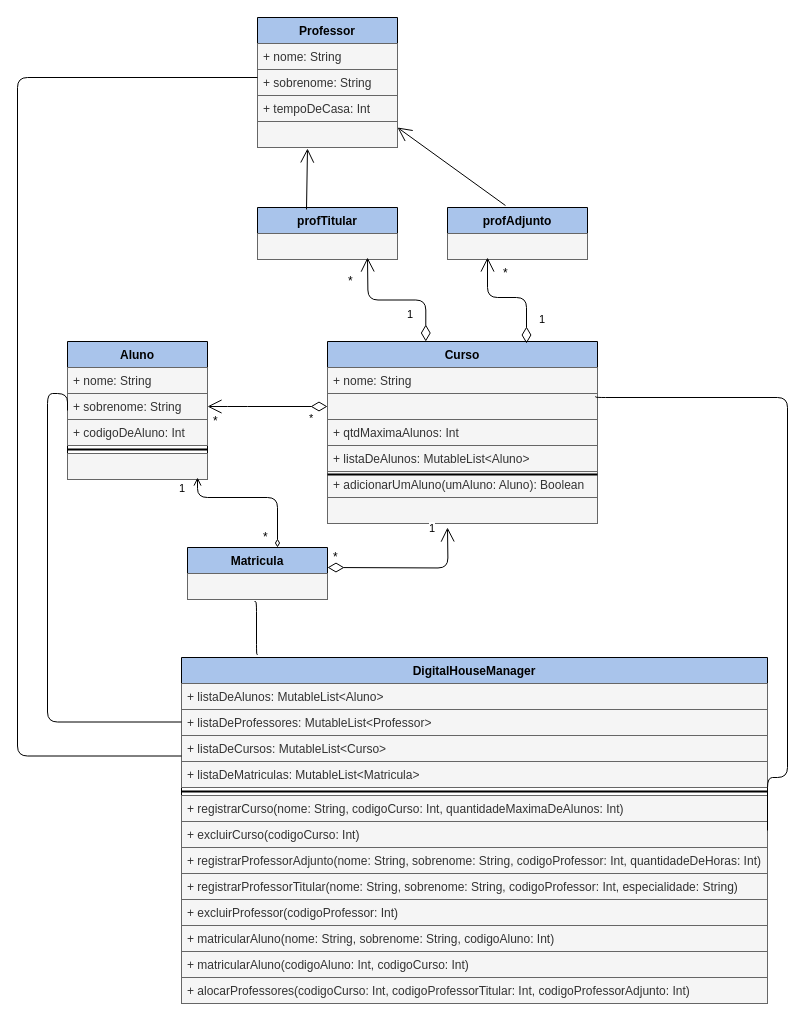
This 806x1024 diagram has some shape labels left out. Here are the shapes that lost their labels. From the top down, the centre of each, then its label:
At point (327, 134): "+ codigoDeProfessor: Int".
At point (327, 246): "+ especialidade: String".
At point (517, 246): "+ qtdHorasMonitoria: Int".
At point (462, 406): "+ codigoDeCurso: Int".
At point (137, 466): "+ cursosMatriculados()".
At point (462, 510): "+ excluirAluno(umAluno: Aluno)".
At point (257, 586): "+ dataDeMatricula: Date".
